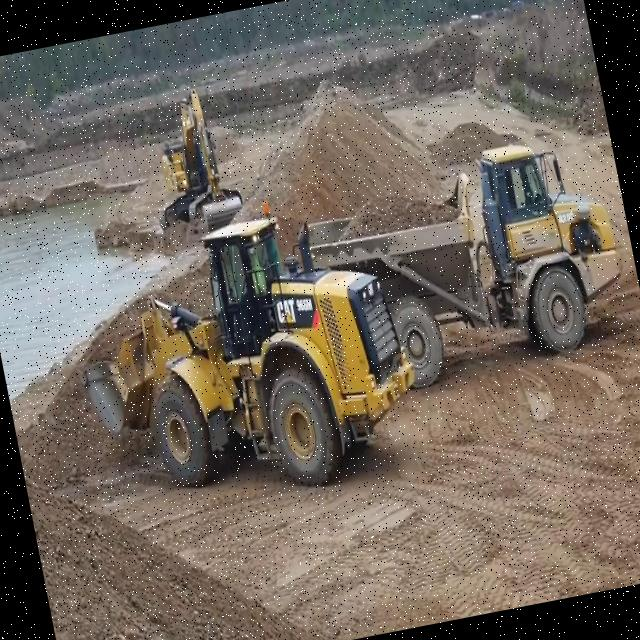Dump Truck: (286, 123, 640, 412)
Excavator: (132, 79, 248, 244)
Loader: (48, 177, 435, 532)
